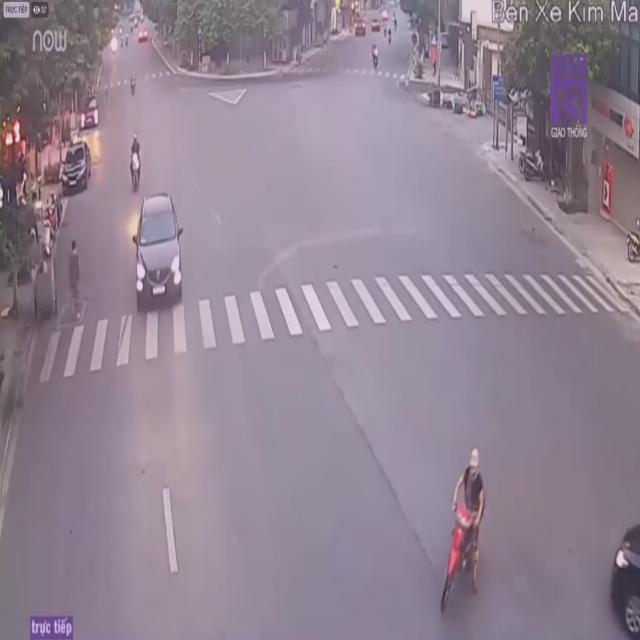car: (130, 192, 184, 309), (608, 509, 640, 637)
motorbike: (447, 451, 492, 614), (128, 131, 144, 192)
